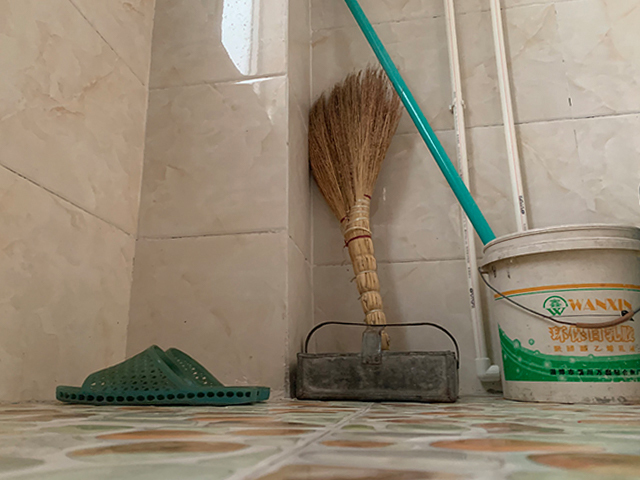slippers: (55, 344, 271, 407)
